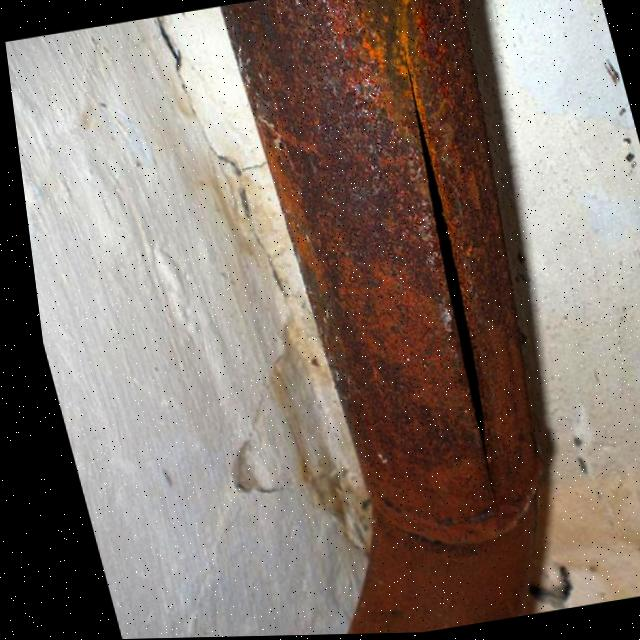crack: (392, 42, 495, 520)
